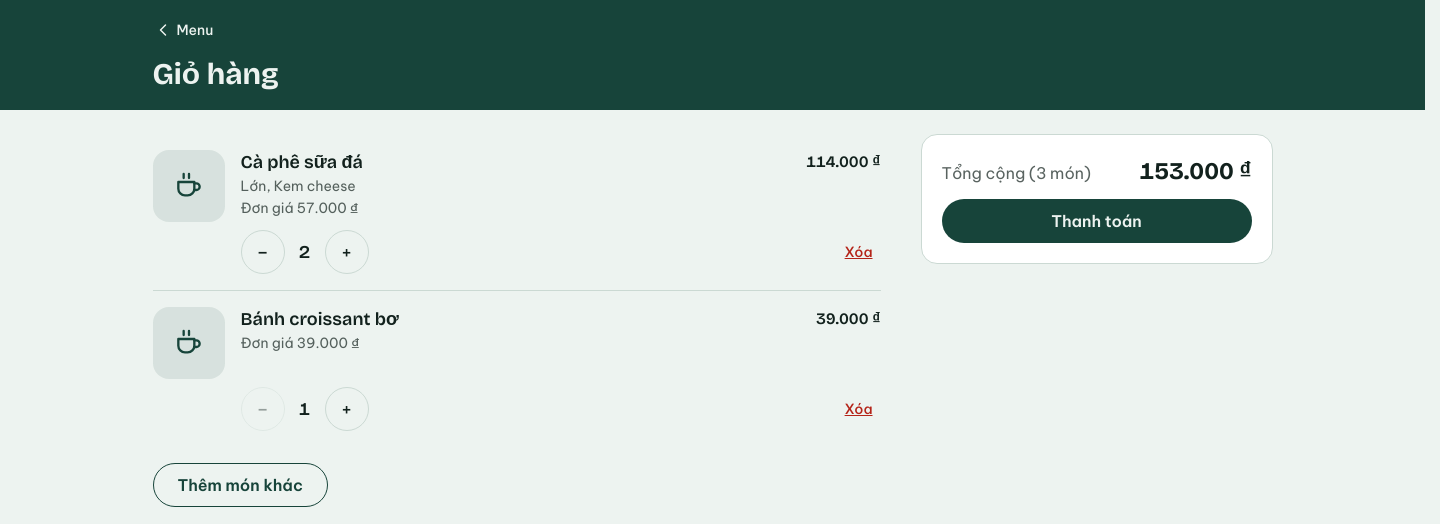
CartScreen › xóa một dòng khỏi giỏ
This screenshot has width=1440, height=524.
Click the button with aria-label "Xóa Cà phê sữa đá khỏi giỏ" at (859, 252), box [837,230,880,274]
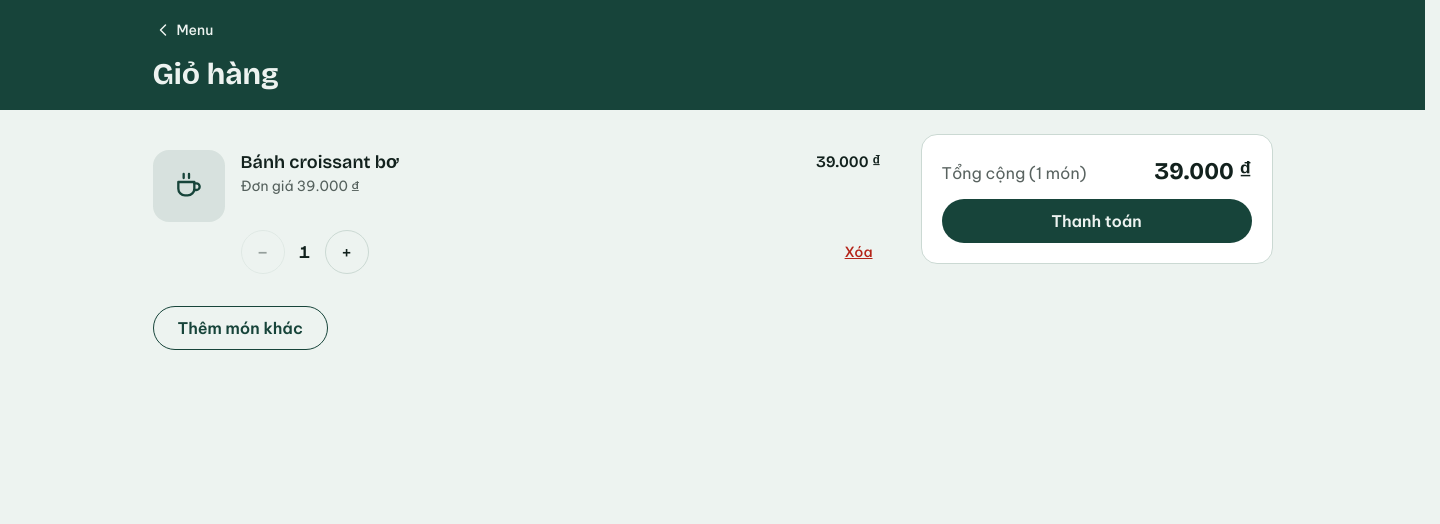
Expected: the heading "Cà phê sữa đá" is gone
Expected: the text "39.000 ₫" next to "món)" is shown, [1154,156,1252,184]
